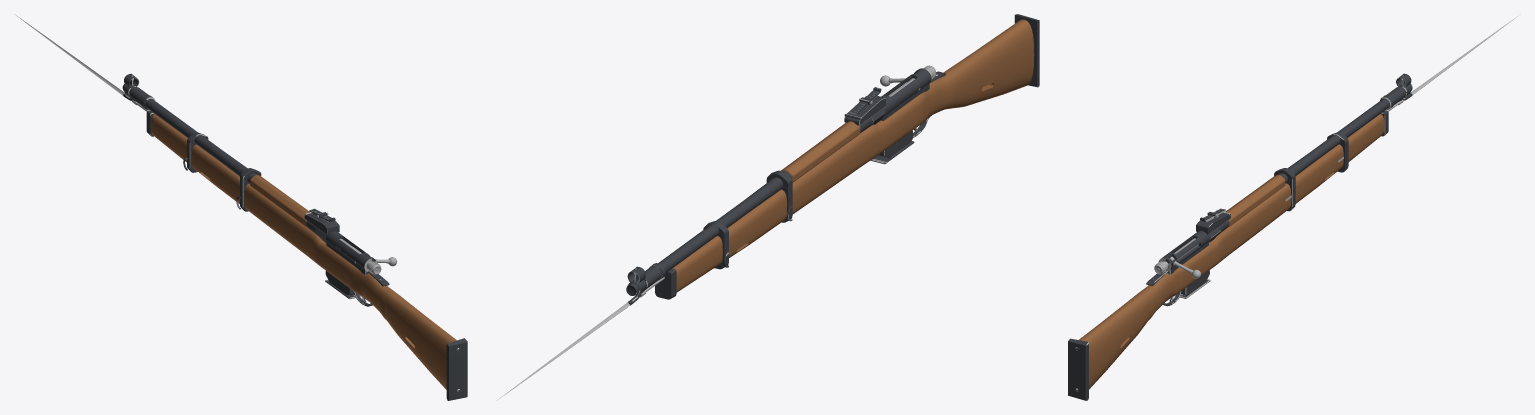
File: mosin.glb
The picture shows the model from 3 angles, left to right: view 1: azimuth 30°, elevation 25°; view 2: azimuth 150°, elevation 25°; view 3: azimuth 330°, elevation 25°; orthographic projection. The views are drawn at different scales.
Parts seen in each view (by area): view 1: static_barrel, static_butt, static, bayonet; view 2: static_barrel, static_butt, static, bayonet; view 3: static_barrel, static_butt, static, bayonet.
Part boxes in pixels (<box>): static_barrel: <box>122,73,339,252</box>; static_butt: <box>385,292,467,400</box>; static: <box>302,227,395,320</box>; bayonet: <box>14,14,155,109</box>; static_barrel: <box>626,87,885,299</box>; static_butt: <box>945,14,1039,108</box>; static: <box>858,68,957,167</box>; bayonet: <box>497,263,665,400</box>; static_barrel: <box>1196,73,1412,252</box>; static_butt: <box>1068,291,1150,400</box>; static: <box>1140,227,1232,319</box>; bayonet: <box>1380,14,1520,109</box>.
Size of the model in its own units: 0.0952 by 0.1947 by 1.76.
